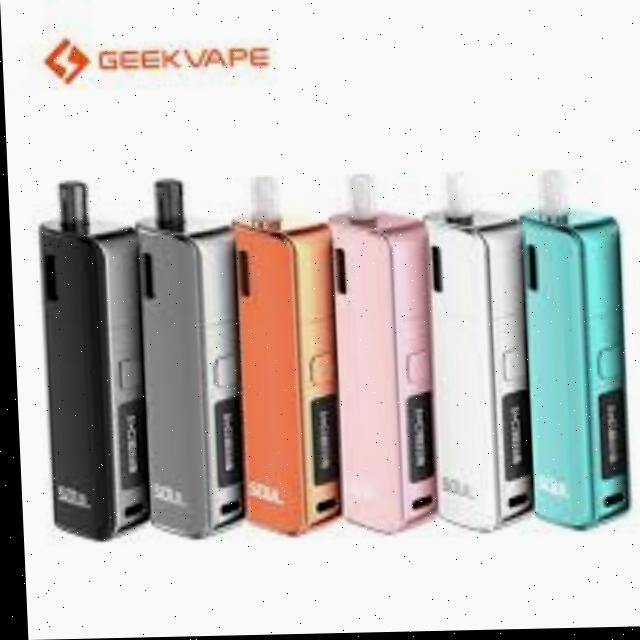vape: (37, 179, 147, 544), (229, 178, 340, 539), (134, 179, 243, 541), (422, 175, 531, 537), (518, 175, 627, 534), (329, 176, 434, 535)
